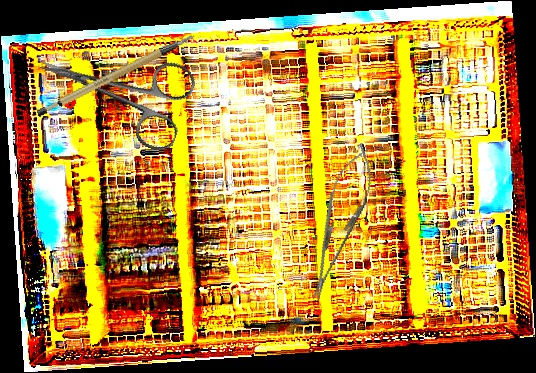Iris Scissors: (27, 19, 200, 156)
Needle Holder: (296, 140, 383, 308)
Scalpel Handle: (29, 33, 205, 120)
